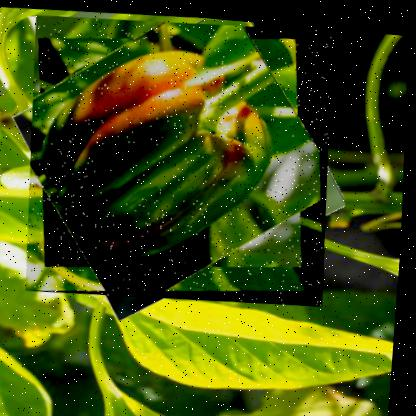capsicum: (19, 3, 342, 310)
